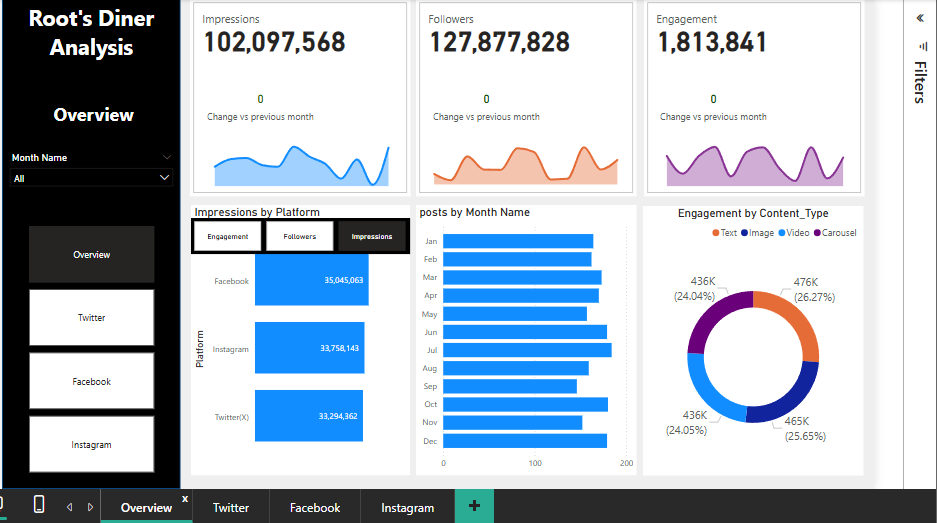

The dashboard page shown, as its layout file describes it:
{"tool":"powerbi","page":{"name":"Overview","canvas":[1280,720],"ordinal":0},"visuals":[{"type":"cardVisual","fields":{"Data":["_measures.Impressions"]},"box":[276,0,324,290],"z":0},{"type":"cardVisual","fields":{"Data":["_measures.ImpressionsMoM"]},"box":[278,120,204,74],"z":1000},{"type":"cardVisual","fields":{"Data":["_measures.Engagement"]},"box":[944,0,324,290],"z":2000},{"type":"cardVisual","fields":{"Data":["_measures.EngagementMoM"]},"box":[944,120,204,74],"z":3000},{"type":"cardVisual","fields":{"Data":["_measures.Followers"]},"box":[608,0,324,290],"z":4000},{"type":"cardVisual","fields":{"Data":["_measures.FollowersMoM"]},"box":[610,120,204,74],"z":5000},{"type":"areaChart","fields":{"Y":["_measures.Impressions"],"Category":["DateTable.Month Name"]},"box":[298,194,284,86],"z":7000},{"type":"areaChart","fields":{"Y":["_measures.Engagement"],"Category":["DateTable.Month Name"]},"box":[962,194,288,86],"z":8000},{"type":"barChart","fields":{"Y":["_measures.Impressions"],"Category":["SMData.Platform"]},"box":[278.3,303.3,321.7,396.7],"z":9000},{"type":"advancedSlicerVisual","fields":{"Values":["Parameter.Parameter"]},"box":[278.3,321.7,321.7,53.3],"z":10000},{"type":"areaChart","fields":{"Y":["_measures.Followers"],"Category":["DateTable.Month Name"]},"box":[620,193,299,85],"z":11000},{"type":"donutChart","fields":{"Y":["_measures.Engagement"],"Category":["SMData.Content_Type"]},"box":[942,304,324,396],"z":12000},{"type":"shape","box":[0,0,262.2,720],"z":13000},{"type":"textbox","box":[42,146,184,48],"z":14000},{"type":"slicer","fields":{"Values":["DateTable.Month Name"]},"box":[2,220,260,70],"z":15000},{"type":"pageNavigator","box":[40,334,184,364],"z":16000},{"type":"textbox","box":[0,0,262.2,100],"z":17000},{"type":"barChart","fields":{"Category":["DateTable.Month Name"],"Y":["_measures.posts"]},"box":[608,303,324,397],"z":17001}]}

Visuals, with their boxes on the page's 1280x720 design canvas (x1, y1, x2, y2). These are canvas units, not pixel positions in the 937x523 screenshot, which may show the page scaled, cropped or inside an application window:
cardVisual - _measures.Impressions: x1=276, y1=0, x2=600, y2=290
cardVisual - _measures.ImpressionsMoM: x1=278, y1=120, x2=482, y2=194
cardVisual - _measures.Engagement: x1=944, y1=0, x2=1268, y2=290
cardVisual - _measures.EngagementMoM: x1=944, y1=120, x2=1148, y2=194
cardVisual - _measures.Followers: x1=608, y1=0, x2=932, y2=290
cardVisual - _measures.FollowersMoM: x1=610, y1=120, x2=814, y2=194
areaChart - _measures.Impressions x DateTable.Month Name: x1=298, y1=194, x2=582, y2=280
areaChart - _measures.Engagement x DateTable.Month Name: x1=962, y1=194, x2=1250, y2=280
barChart - _measures.Impressions x SMData.Platform: x1=278, y1=303, x2=600, y2=700
advancedSlicerVisual - Parameter.Parameter: x1=278, y1=322, x2=600, y2=375
areaChart - _measures.Followers x DateTable.Month Name: x1=620, y1=193, x2=919, y2=278
donutChart - _measures.Engagement x SMData.Content_Type: x1=942, y1=304, x2=1266, y2=700
shape: x1=0, y1=0, x2=262, y2=720
textbox: x1=42, y1=146, x2=226, y2=194
slicer - DateTable.Month Name: x1=2, y1=220, x2=262, y2=290
pageNavigator: x1=40, y1=334, x2=224, y2=698
textbox: x1=0, y1=0, x2=262, y2=100
barChart - DateTable.Month Name x _measures.posts: x1=608, y1=303, x2=932, y2=700
